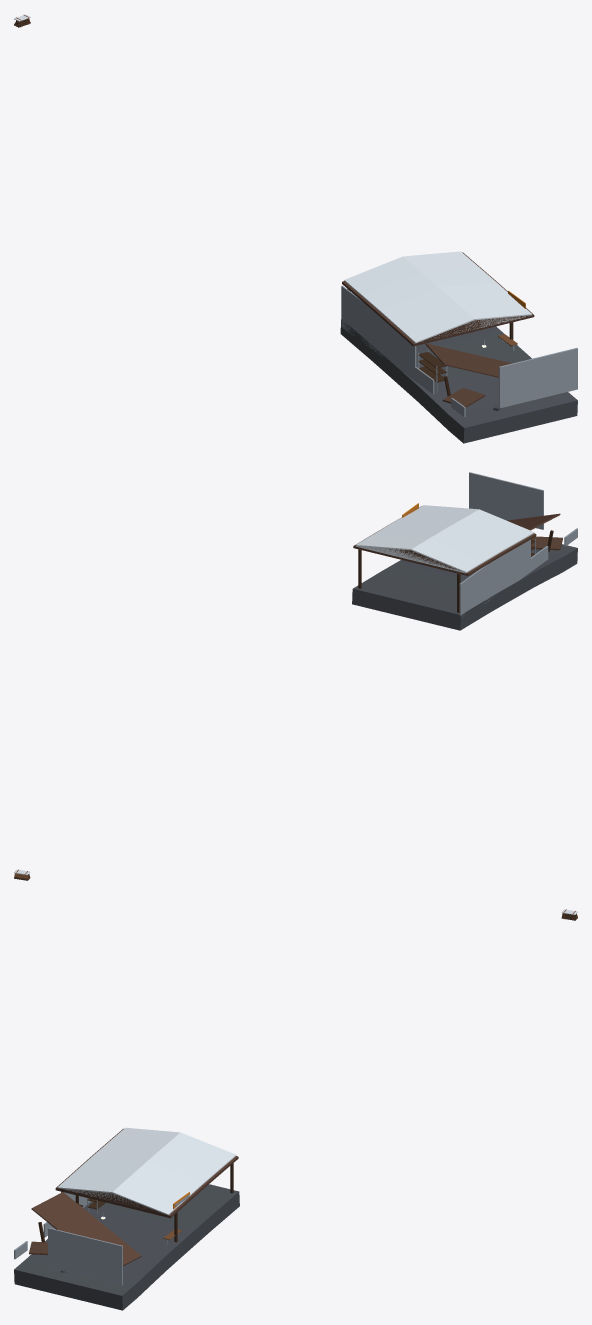
File: DepotHangar_-2_-2.fbx
The picture shows the model from 3 angles, top to bottom: view 1: azimuth 30°, elevation 25°; view 2: azimuth 150°, elevation 25°; view 3: azimuth 330°, elevation 25°; orthographic projection. The views are drawn at different scales.
Visible parts, largest first — view 1: DepotHangar_-2_-2; view 2: DepotHangar_-2_-2; view 3: DepotHangar_-2_-2.
Boxes of the visible parts, x1,y1,x2,y2 form: DepotHangar_-2_-2: (14, 14, 577, 443); DepotHangar_-2_-2: (14, 472, 577, 880); DepotHangar_-2_-2: (14, 909, 577, 1310).
Bounding box in the file's own units: 1700 × 1174 × 12565.
